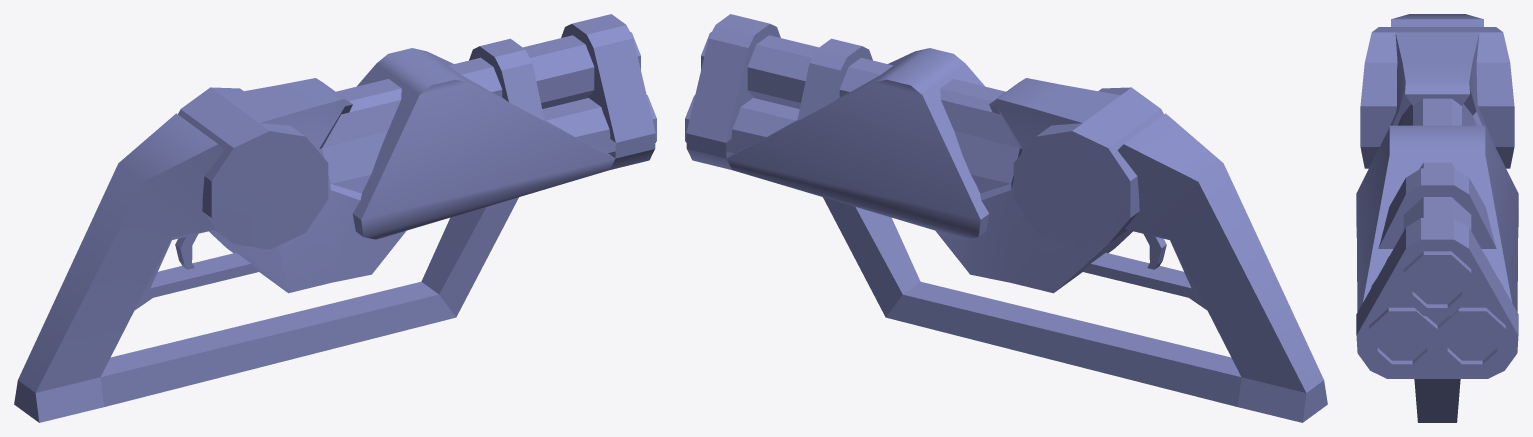
File: Wardshot.fbx
3 renders of one model, left to right at view 1: azimuth 30°, elevation 25°; view 2: azimuth 150°, elevation 25°; view 3: azimuth 270°, elevation 25°, orthographic. The views are drawn at different scales.
Parts seen in each view (by area): view 1: Wardshot; view 2: Wardshot; view 3: Wardshot.
Boxes of the visible parts, bbox=[...] form: Wardshot: bbox=[14, 14, 656, 422]; Wardshot: bbox=[685, 14, 1327, 422]; Wardshot: bbox=[1356, 14, 1518, 422].
Bounding box in the file's own units: 54.77 × 22.05 × 11.61.
